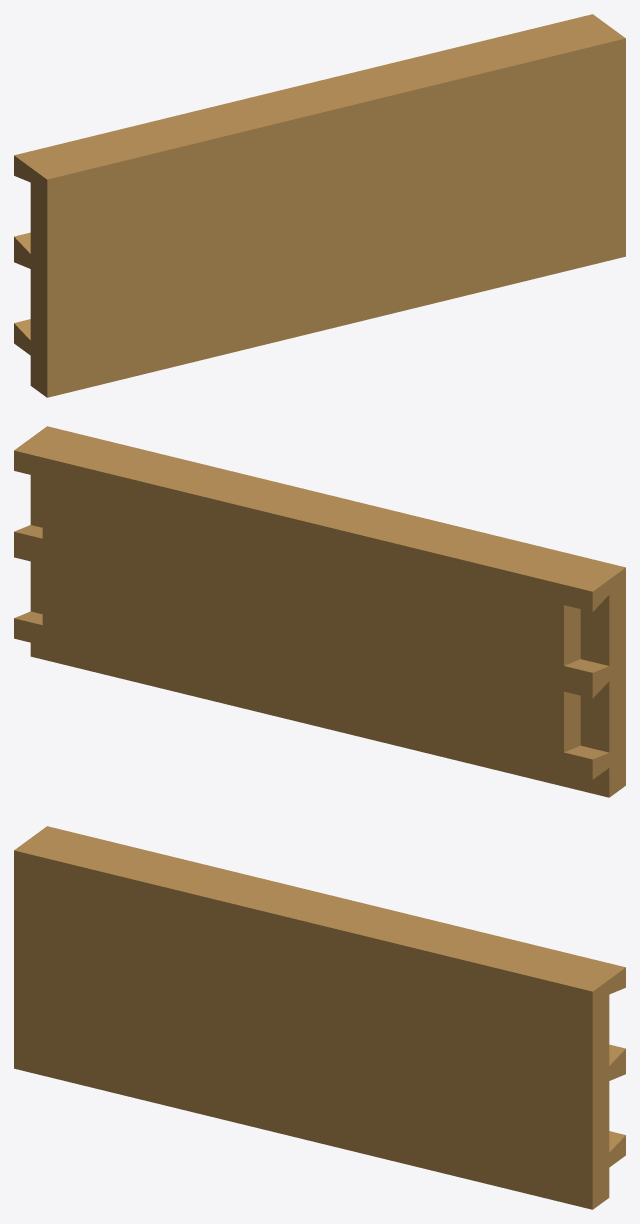
The model's file is original-25.obj.
3 views of the same model, one above another, from view 1: azimuth 30°, elevation 25°; view 2: azimuth 150°, elevation 25°; view 3: azimuth 330°, elevation 25° (orthographic).
Parts seen in each view (by area): view 1: Group25/mesh33/mesh33-geometry#mesh33-geometry; view 2: Group25/mesh33/mesh33-geometry#mesh33-geometry; view 3: Group25/mesh33/mesh33-geometry#mesh33-geometry.
Boxes of the visible parts, x1=… form: Group25/mesh33/mesh33-geometry#mesh33-geometry: x1=14, y1=14, x2=625, y2=397; Group25/mesh33/mesh33-geometry#mesh33-geometry: x1=14, y1=426, x2=625, y2=797; Group25/mesh33/mesh33-geometry#mesh33-geometry: x1=14, y1=826, x2=625, y2=1209.
Bounding box in the file's own units: 0.1982 × 0.0714 × 0.0197.
